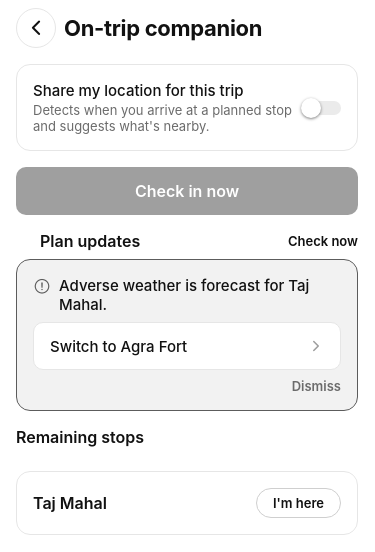
Scenario: OnTripCompanionScreen › accepting an alternative resolves the disruption and refreshes the itinerary
Click the button with test id "accept-alternative-disruption-1-0".
click(187, 346)  # box [33, 322, 341, 370]
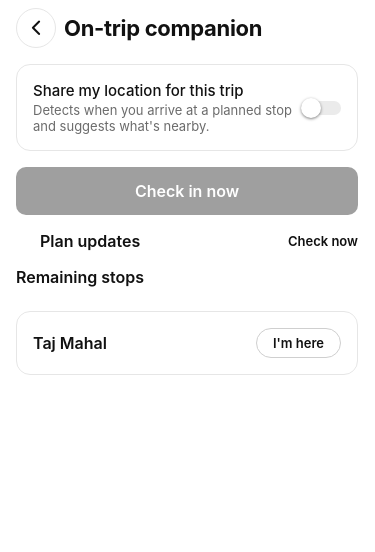
Now the element with test id "disruption-disruption-1" is gone
